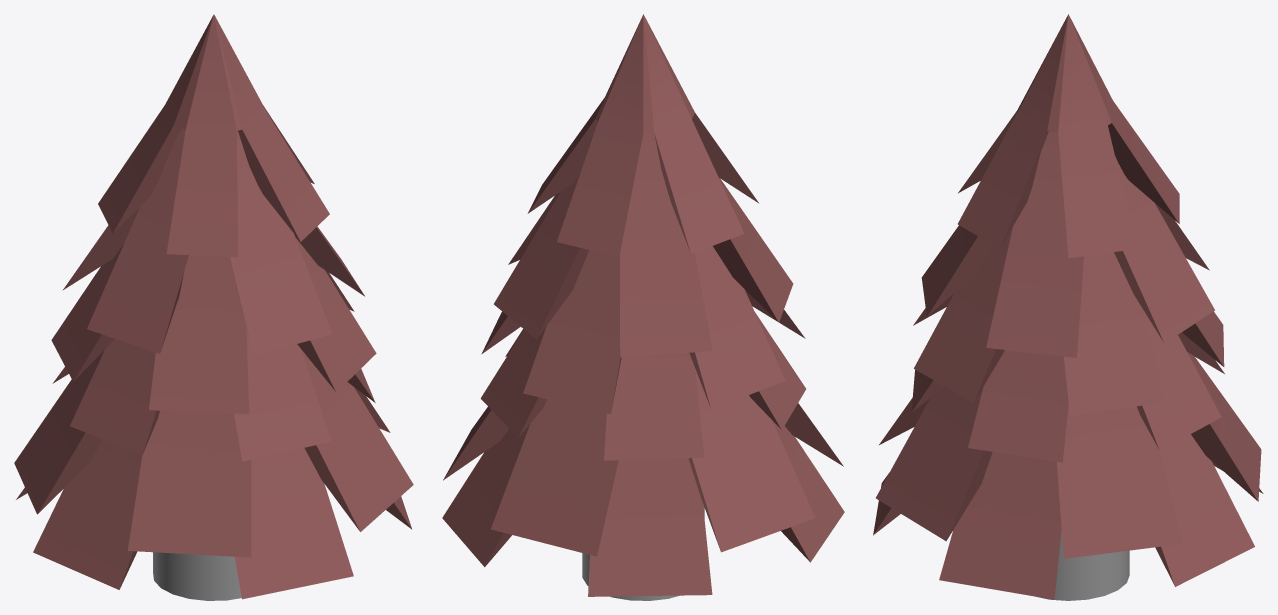
File: tree7.fbx
The picture shows the model from 3 angles, left to right: view 1: azimuth 30°, elevation 25°; view 2: azimuth 150°, elevation 25°; view 3: azimuth 270°, elevation 25°; orthographic projection.
Visible parts, largest first — view 1: pCone5, pCone1, pCone2, pCone6, pCone3, pCone4, pCylinder1; view 2: pCone5, pCone2, pCone1, pCone6, pCone3, pCone4; view 3: pCone5, pCone2, pCone1, pCone6, pCone3, pCone4, pCylinder1.
Boxes of the visible parts, x1,y1,x2,y2 form: pCone5: [14, 349, 413, 557]; pCone1: [98, 14, 329, 257]; pCone2: [62, 128, 364, 355]; pCone6: [16, 439, 412, 599]; pCone3: [51, 237, 376, 414]; pCone4: [52, 326, 375, 461]; pCylinder1: [153, 552, 241, 600]; pCone5: [443, 369, 843, 556]; pCone2: [494, 133, 793, 357]; pCone1: [527, 14, 758, 256]; pCone6: [442, 420, 844, 596]; pCone3: [481, 246, 805, 414]; pCone4: [480, 312, 805, 460]; pCone5: [876, 352, 1261, 558]; pCone2: [921, 131, 1214, 357]; pCone1: [958, 14, 1179, 258]; pCone6: [873, 434, 1263, 599]; pCone3: [913, 227, 1224, 415]; pCone4: [911, 308, 1224, 462]; pCylinder1: [1036, 531, 1129, 600].
Size of the model in its own units: 7.49 by 11.51 by 7.27.
